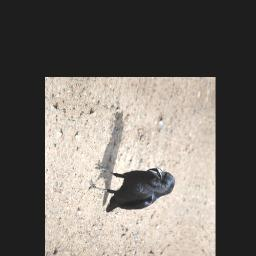Crow: (84, 157, 178, 222)
